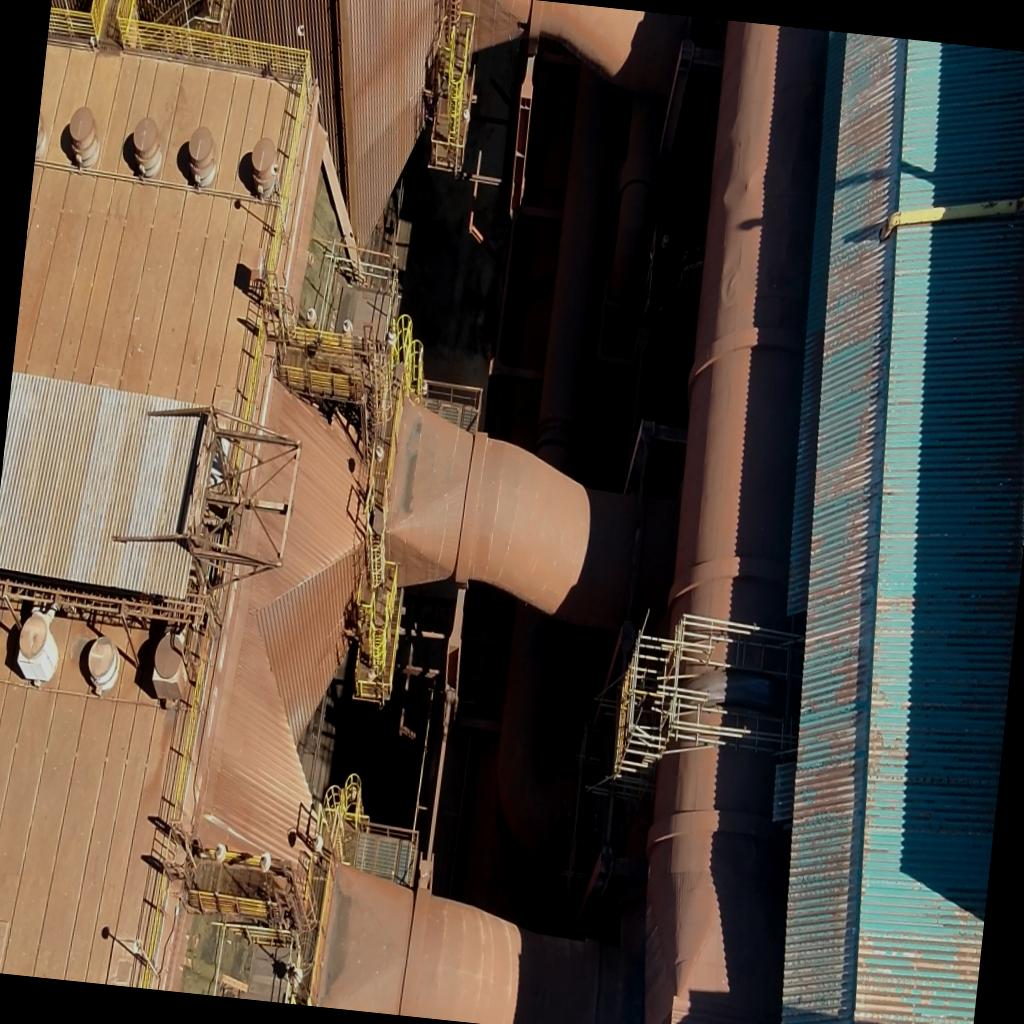Failures: (290, 175, 377, 378)
